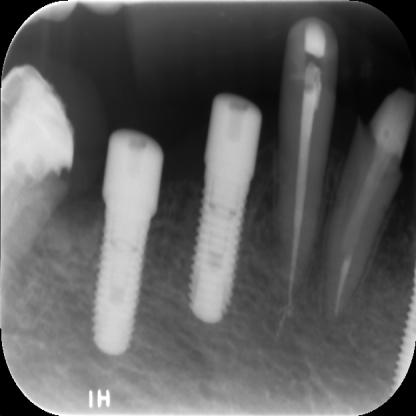Bego: (66, 115, 172, 359), (166, 91, 274, 325)
